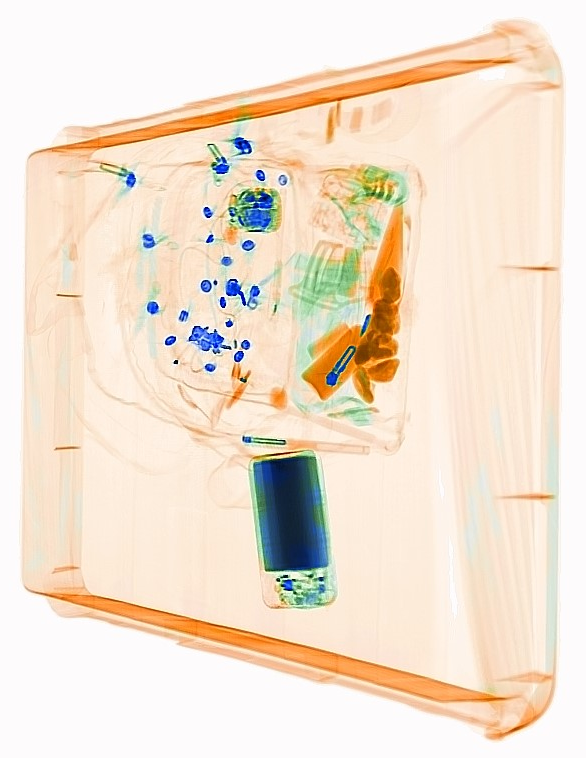PortableBattery: (242, 444, 341, 615)
